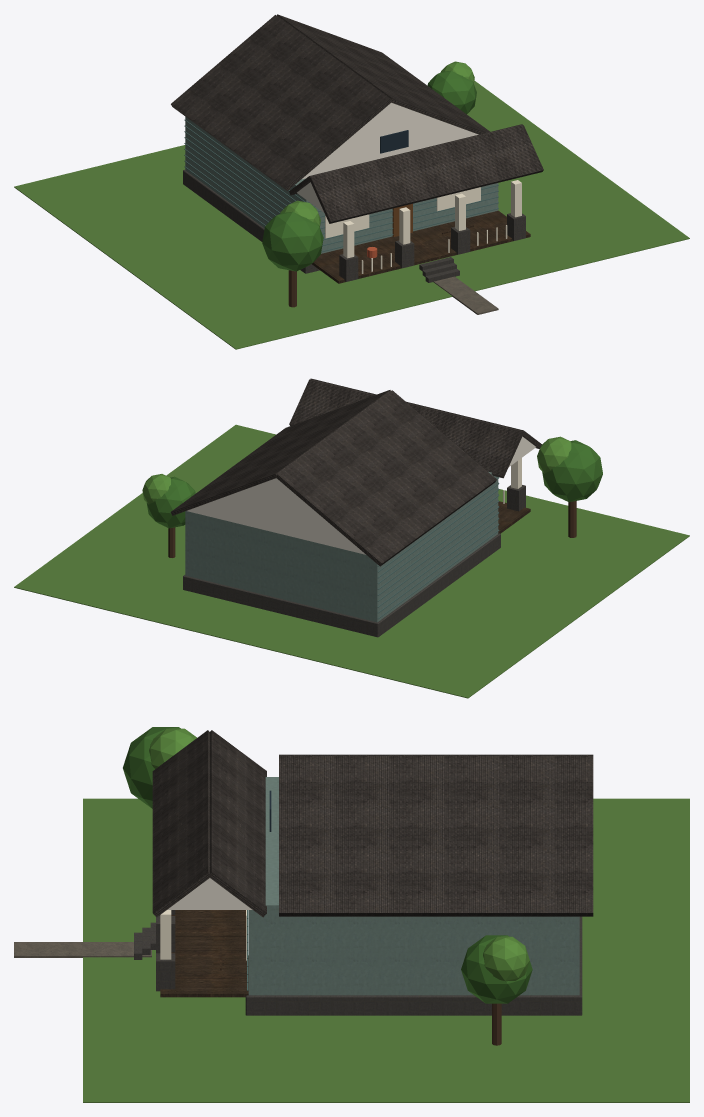
File: OT_House_C.glb
3 views of the same model, one above another, from view 1: azimuth 30°, elevation 25°; view 2: azimuth 150°, elevation 25°; view 3: azimuth 270°, elevation 25° (orthographic). The views are drawn at different scales.
Visible parts, largest first — view 1: OT_House_C_Lawn__567d3a, OT_House_C_Shingle, OT_House_C_Siding, OT_House_C_Gable__e8e2d4, OT_House_C_Wood, OT_House_C_Leaf__3f6e2c, OT_House_C_Stone, OT_House_C_TrimCream__efe6cf, OT_House_C_LapShadowC__4f6a66, OT_House_C_Concrete, OT_House_C_Leaf2__58893a, OT_House_C_Glass__22303a; view 2: OT_House_C_Lawn__567d3a, OT_House_C_Shingle, OT_House_C_Siding, OT_House_C_Stone, OT_House_C_Gable__e8e2d4, OT_House_C_Leaf__3f6e2c, OT_House_C_LapShadowC__4f6a66, OT_House_C_Leaf2__58893a, OT_House_C_Bark__4a3424, OT_House_C_Wood; view 3: OT_House_C_Lawn__567d3a, OT_House_C_Shingle, OT_House_C_Siding, OT_House_C_Stone, OT_House_C_Wood, OT_House_C_Leaf__3f6e2c, OT_House_C_Leaf2__58893a, OT_House_C_Concrete, OT_House_C_Gable__e8e2d4, OT_House_C_TrimCream__efe6cf.
Part boxes in pixels (<box>): OT_House_C_Lawn__567d3a: <box>14,80,689,349</box>; OT_House_C_Shingle: <box>171,14,543,223</box>; OT_House_C_Siding: <box>185,117,498,253</box>; OT_House_C_Gable__e8e2d4: <box>297,102,478,212</box>; OT_House_C_Wood: <box>312,210,530,283</box>; OT_House_C_Leaf__3f6e2c: <box>262,70,476,271</box>; OT_House_C_Stone: <box>183,169,525,282</box>; OT_House_C_TrimCream__efe6cf: <box>325,180,521,273</box>; OT_House_C_LapShadowC__4f6a66: <box>184,119,498,252</box>; OT_House_C_Concrete: <box>433,276,498,314</box>; OT_House_C_Leaf2__58893a: <box>280,61,474,226</box>; OT_House_C_Glass__22303a: <box>380,130,408,153</box>; OT_House_C_Lawn__567d3a: <box>14,424,689,698</box>; OT_House_C_Shingle: <box>170,378,541,566</box>; OT_House_C_Siding: <box>185,471,498,622</box>; OT_House_C_Stone: <box>183,485,525,637</box>; OT_House_C_Gable__e8e2d4: <box>187,436,535,554</box>; OT_House_C_Leaf__3f6e2c: <box>146,440,602,528</box>; OT_House_C_LapShadowC__4f6a66: <box>377,477,499,619</box>; OT_House_C_Leaf2__58893a: <box>142,436,571,504</box>; OT_House_C_Bark__4a3424: <box>168,501,576,557</box>; OT_House_C_Wood: <box>498,501,530,533</box>; OT_House_C_Lawn__567d3a: <box>83,798,689,1102</box>; OT_House_C_Shingle: <box>152,730,593,917</box>; OT_House_C_Siding: <box>248,777,579,995</box>; OT_House_C_Stone: <box>134,910,582,1015</box>; OT_House_C_Wood: <box>160,910,248,997</box>; OT_House_C_Leaf__3f6e2c: <box>123,727,532,1003</box>; OT_House_C_Leaf2__58893a: <box>149,728,529,981</box>; OT_House_C_Concrete: <box>14,942,151,957</box>; OT_House_C_Gable__e8e2d4: <box>167,878,252,909</box>; OT_House_C_TrimCream__efe6cf: <box>160,910,246,960</box>.
Size of the model in its own units: 26 by 7.85 by 24.5.
Materials: 18 (6 with a texture image).
